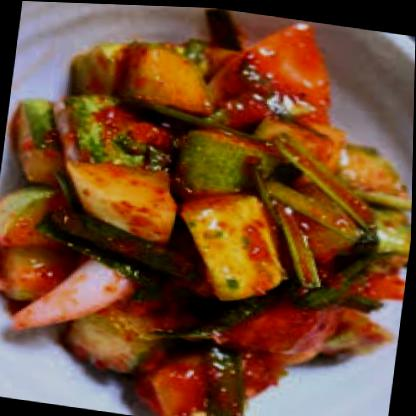cucumber kimchi: (0, 31, 414, 409)
